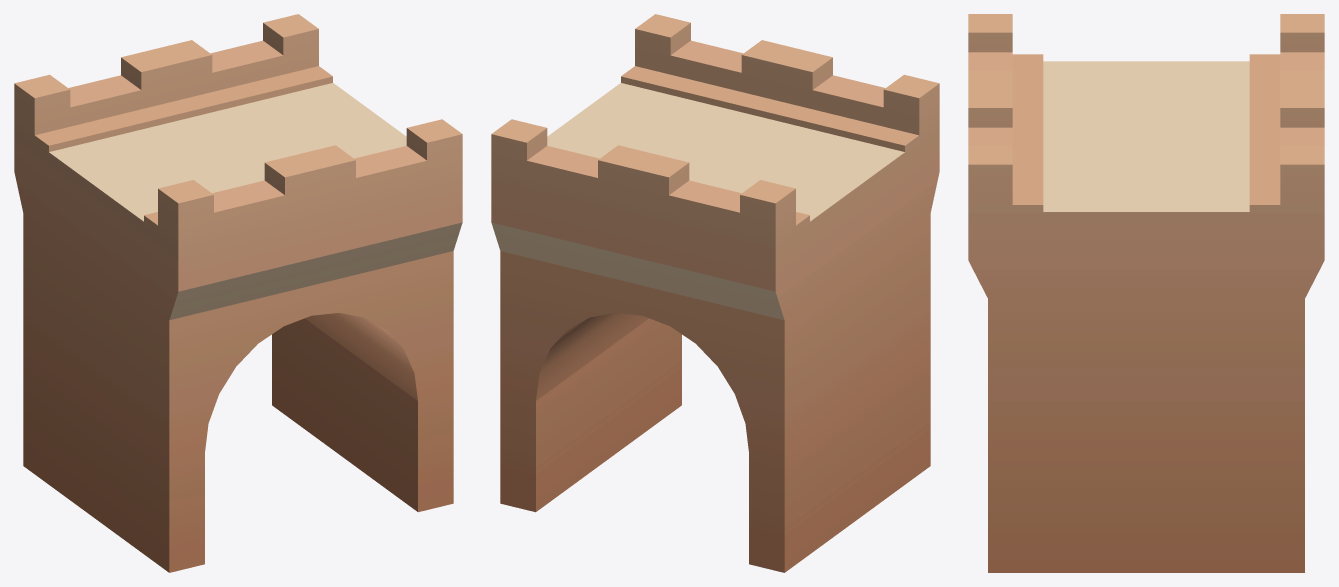
The model's file is kenney-castle-bridge-straight.glb.
3 renders of one model, left to right at view 1: azimuth 30°, elevation 25°; view 2: azimuth 150°, elevation 25°; view 3: azimuth 270°, elevation 25°, orthographic. The views are drawn at different scales.
Visible parts, largest first — view 1: bridge-straight; view 2: bridge-straight; view 3: bridge-straight.
Boxes of the visible parts, bbox=[...] form: bridge-straight: bbox=[14, 14, 462, 572]; bridge-straight: bbox=[491, 14, 939, 572]; bridge-straight: bbox=[968, 14, 1324, 572].
Bounding box in the file's own units: 0.9301 × 1.18 × 0.9301.
Materials: 1 (1 with a texture image).
